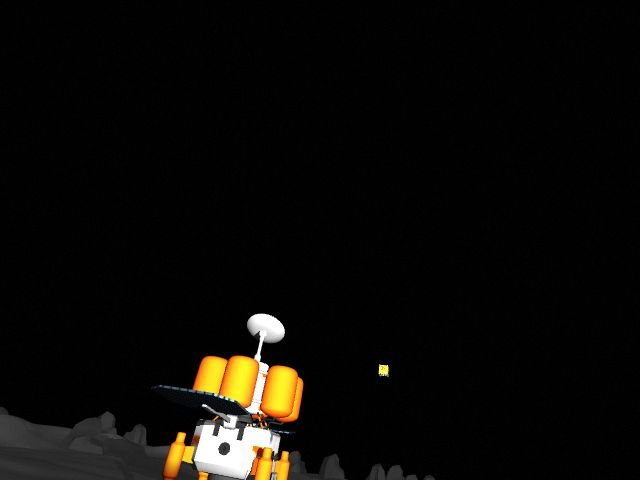cubesat: (377, 364, 390, 378)
